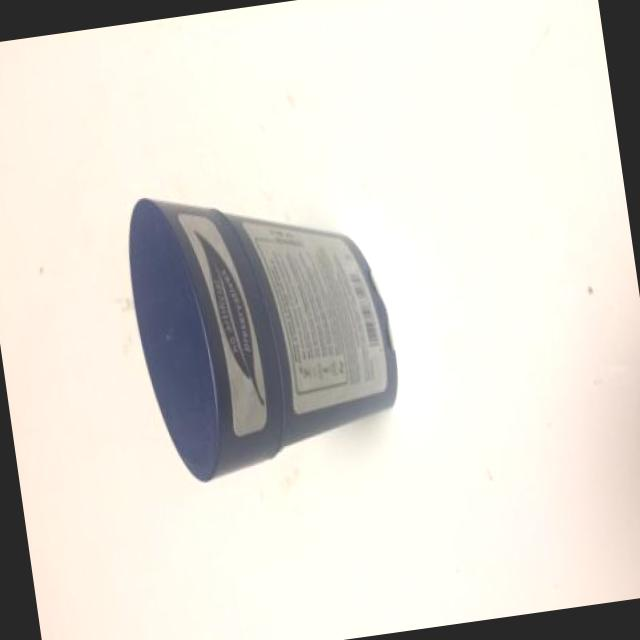Trash: (120, 164, 412, 494)
